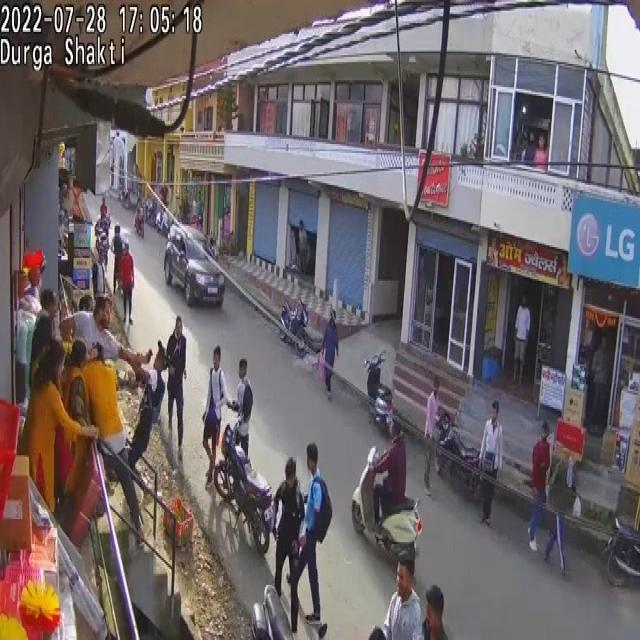fight: (15, 207, 159, 538), (24, 344, 96, 524)
non-fight: (288, 441, 326, 633), (271, 456, 305, 632), (88, 199, 136, 323), (125, 350, 166, 480), (201, 346, 230, 482), (370, 420, 406, 522), (526, 420, 552, 551), (477, 402, 504, 528), (228, 358, 253, 466), (165, 316, 186, 435), (384, 585, 423, 640), (588, 334, 610, 431), (423, 375, 441, 493), (513, 294, 531, 384), (320, 310, 338, 398), (118, 242, 135, 326), (112, 224, 125, 294)
